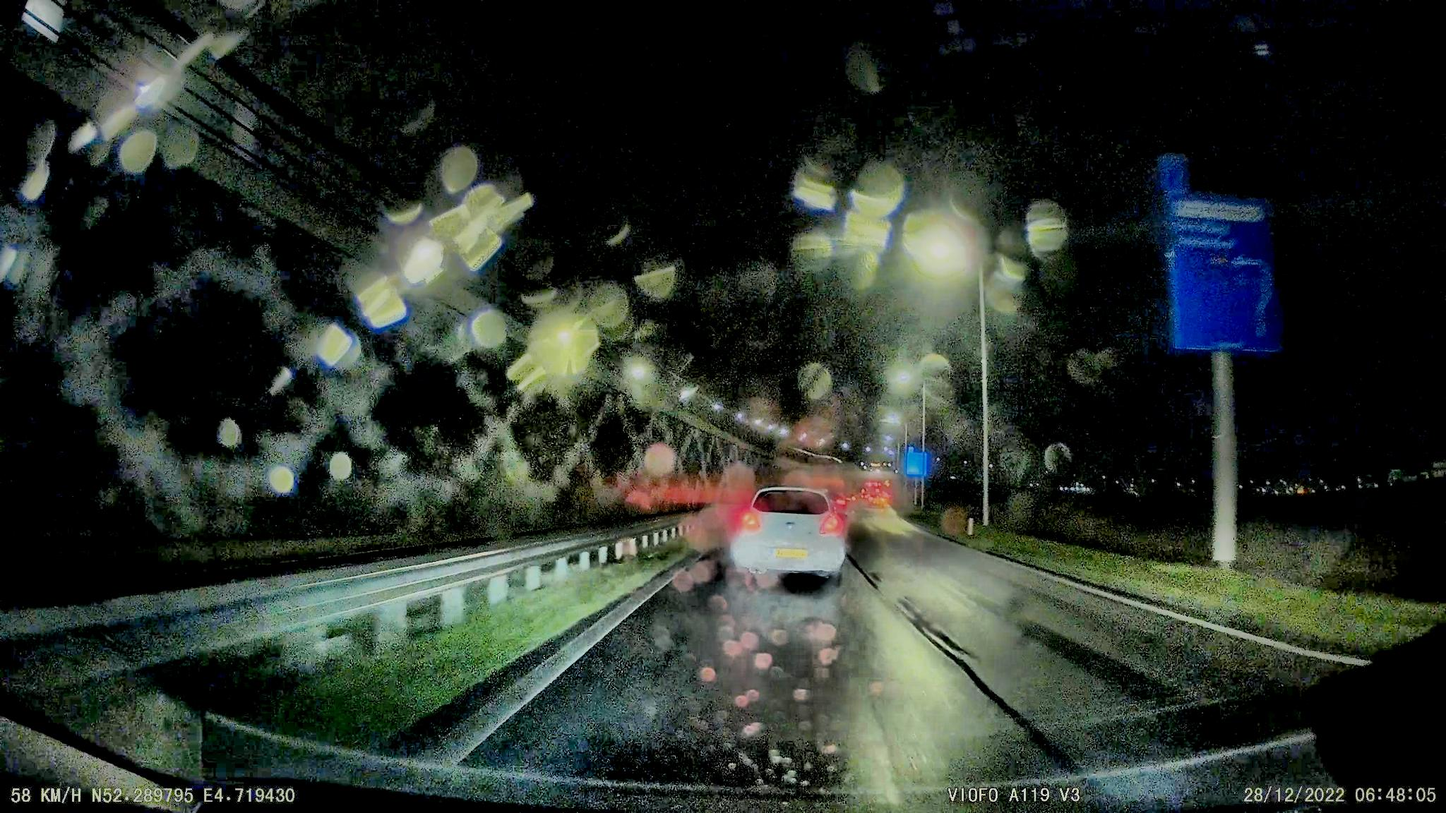Roads: (469, 510, 1347, 813)
